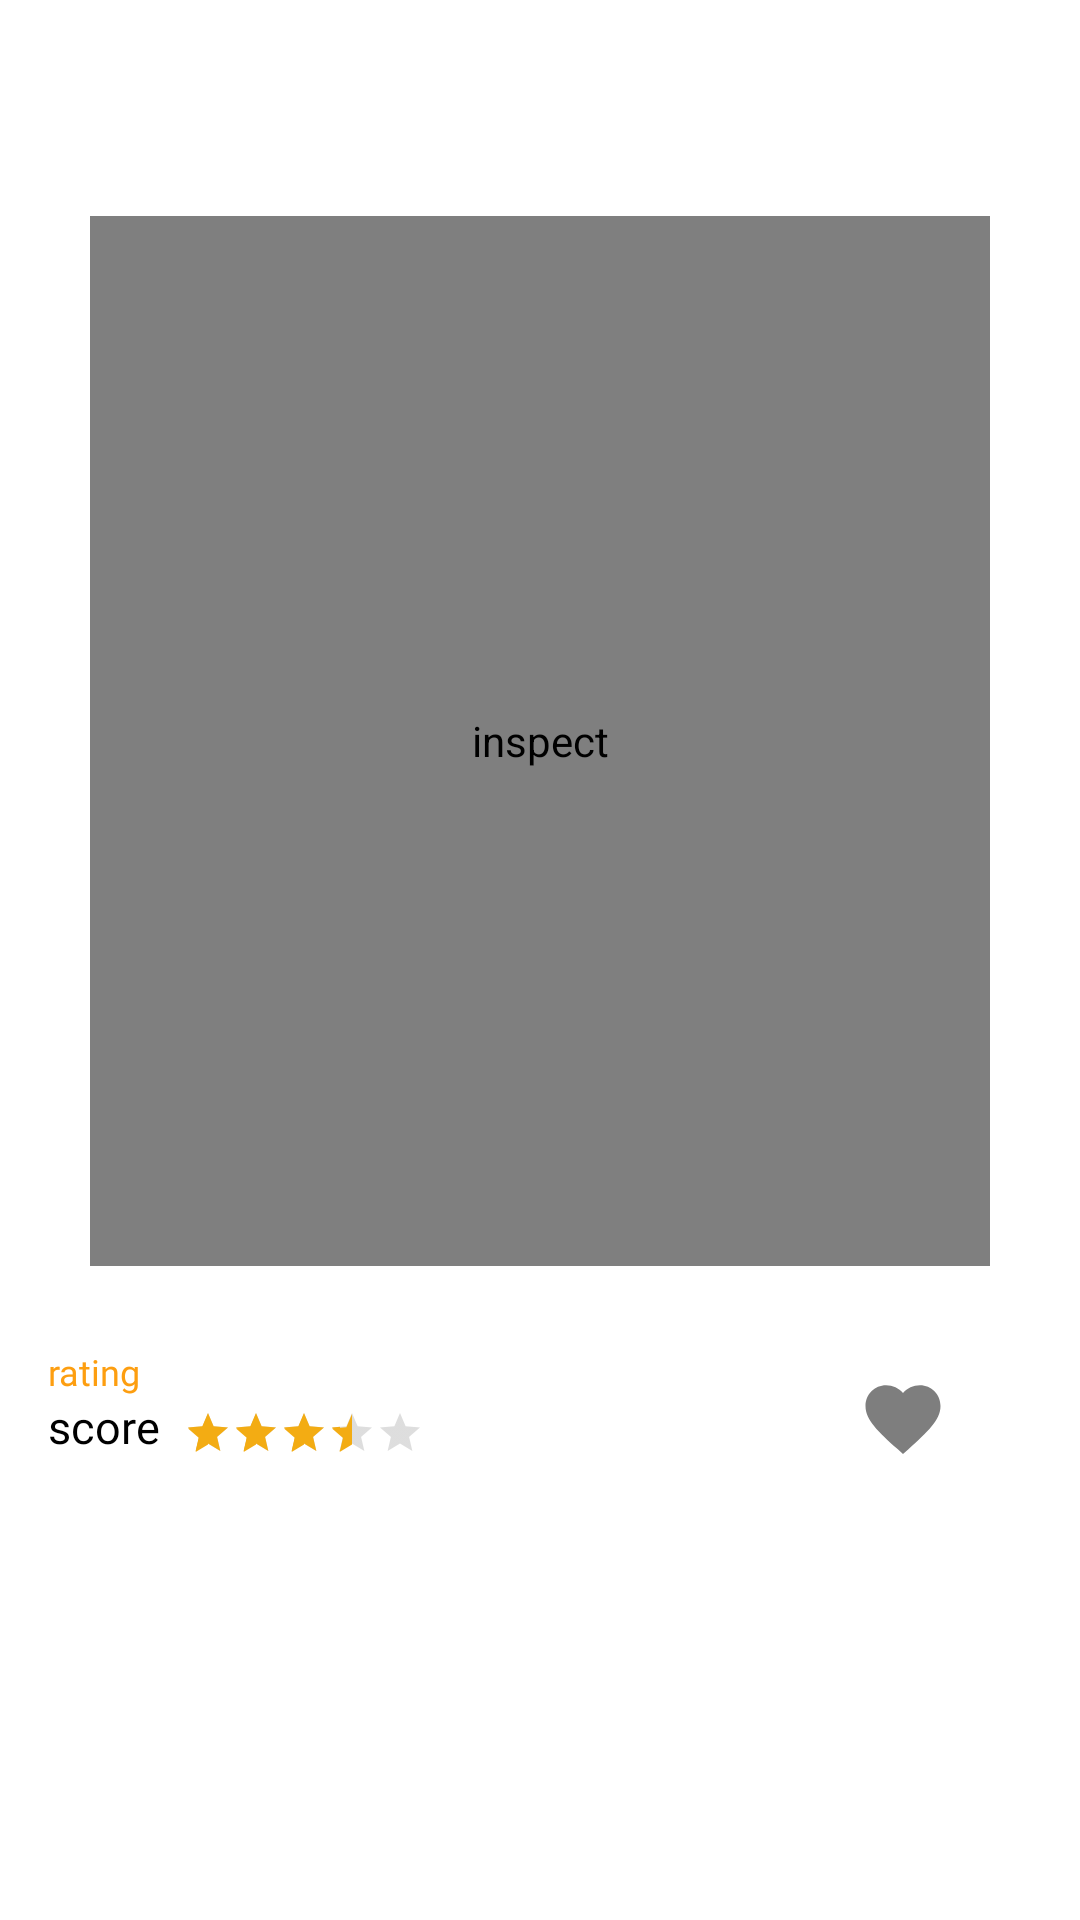

Point at icon controls on the screen. Image size 1080 x 1920, points as [x,y].
heart: [903,1419]
